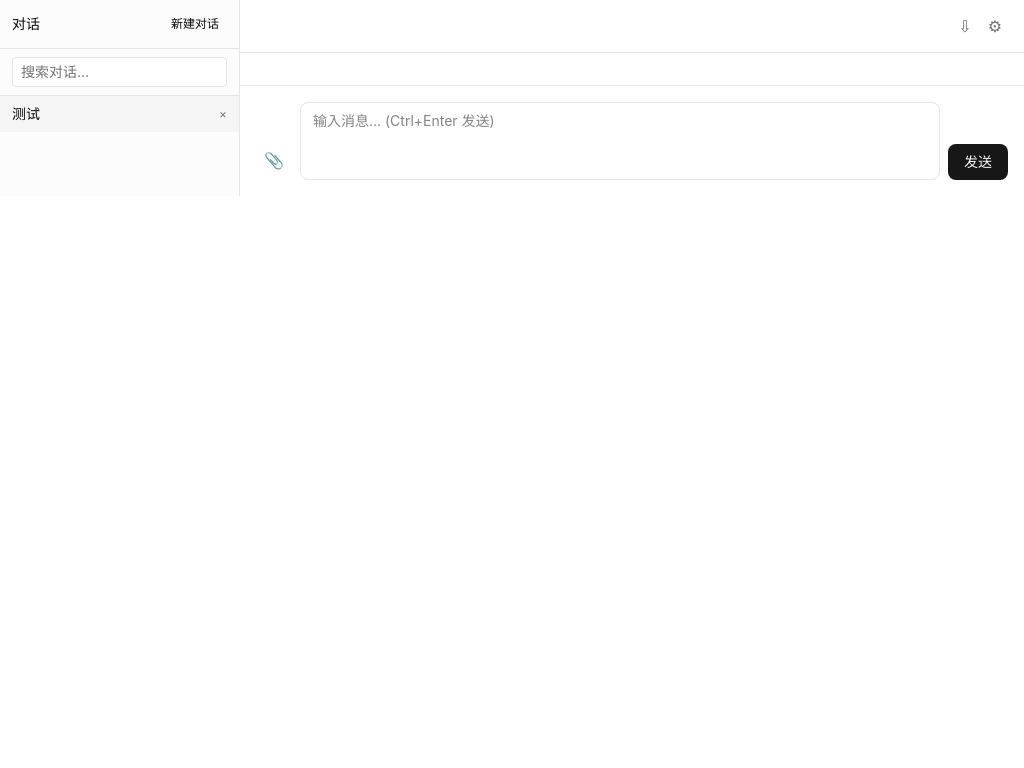
Test case: ChatView › 点击系统 Prompt 按钮显示编辑对话框
Click the button titled "系统 Prompt" at coordinates (995, 26), box 982,8 -> 1008,44
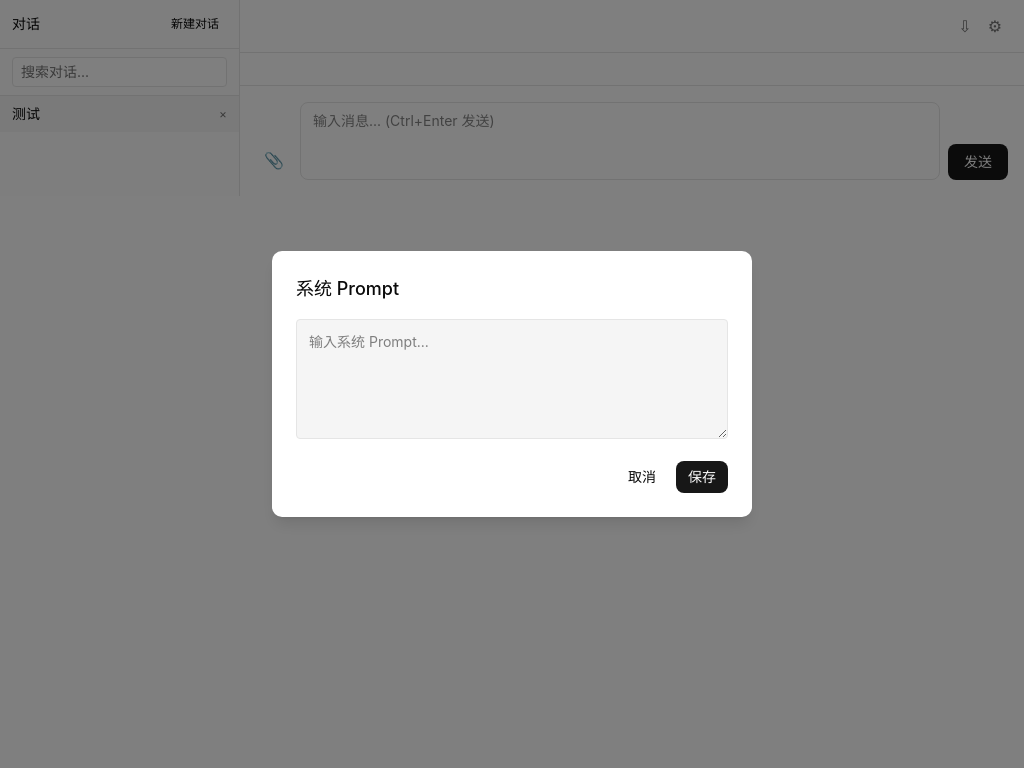
Expected: the text box with placeholder "输入系统 Prompt..." is shown, 296,319 -> 728,439
